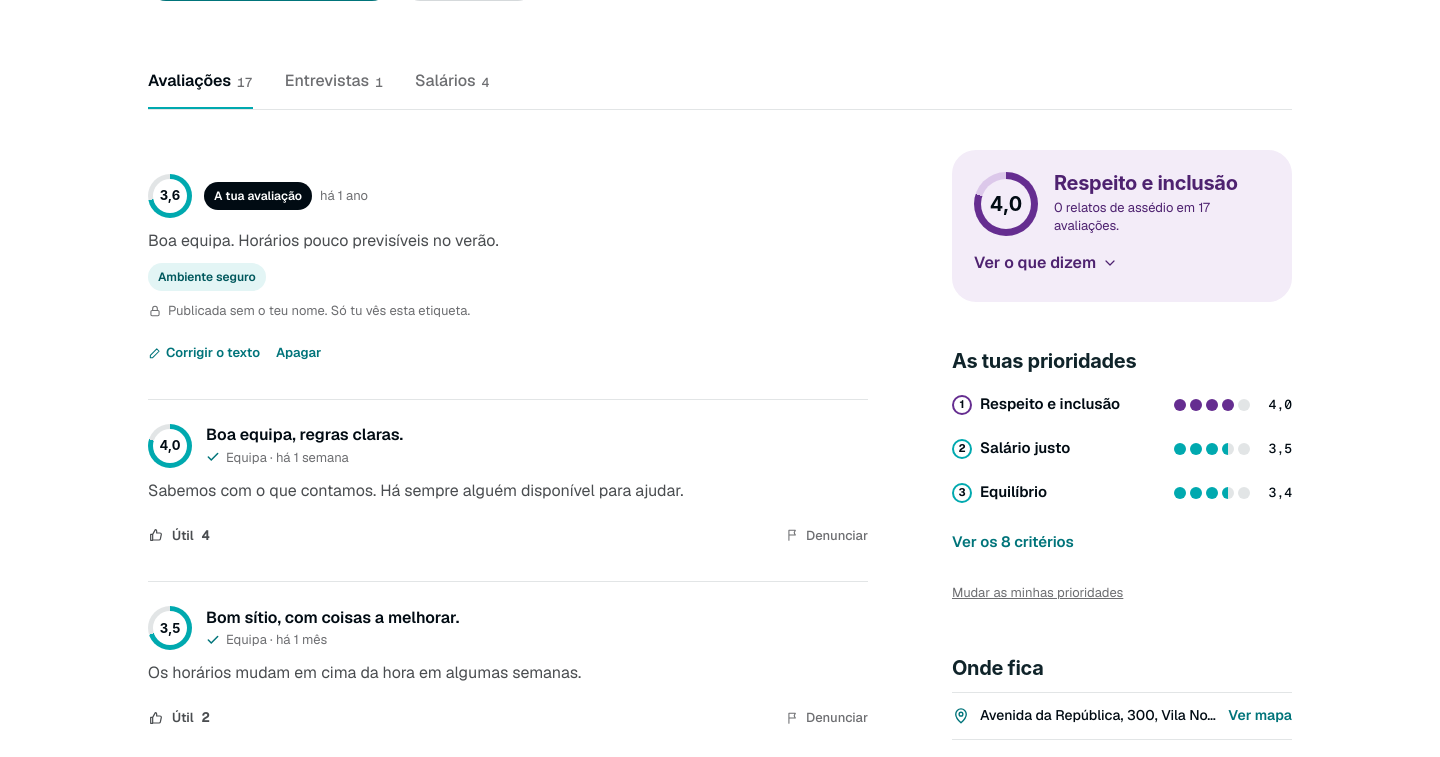
Test: A minha avaliação (desktop) › corrigir o texto: as notas ficam e aparece "editada"
(page scrolled)
Step 1. Click the button "Corrigir o texto" → click(204, 353), box [148,331,260,375]
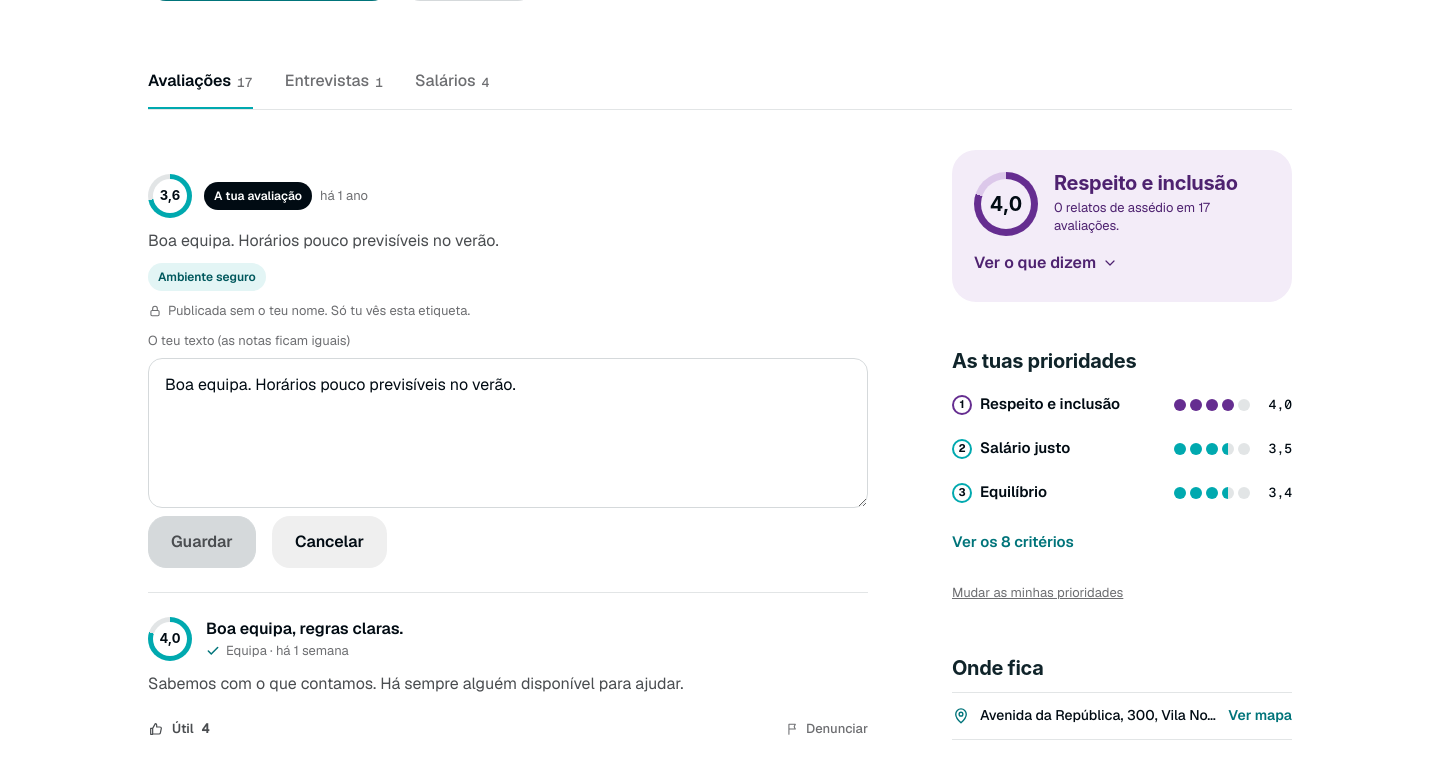
Expected: the text box labelled "O teu texto (as notas ficam iguais)" holds "Boa equipa. Horários pouco previsíveis no verão."
Expected: the button "Guardar" below "O teu texto (as notas ficam iguais)" is disabled, [148,516,256,568]
Step 2. Replace the text in the text box labelled "O teu texto (as notas ficam iguais)" with "Boa equipa. Os horários melhoraram este ano." → (508, 433), box [148,358,868,508]
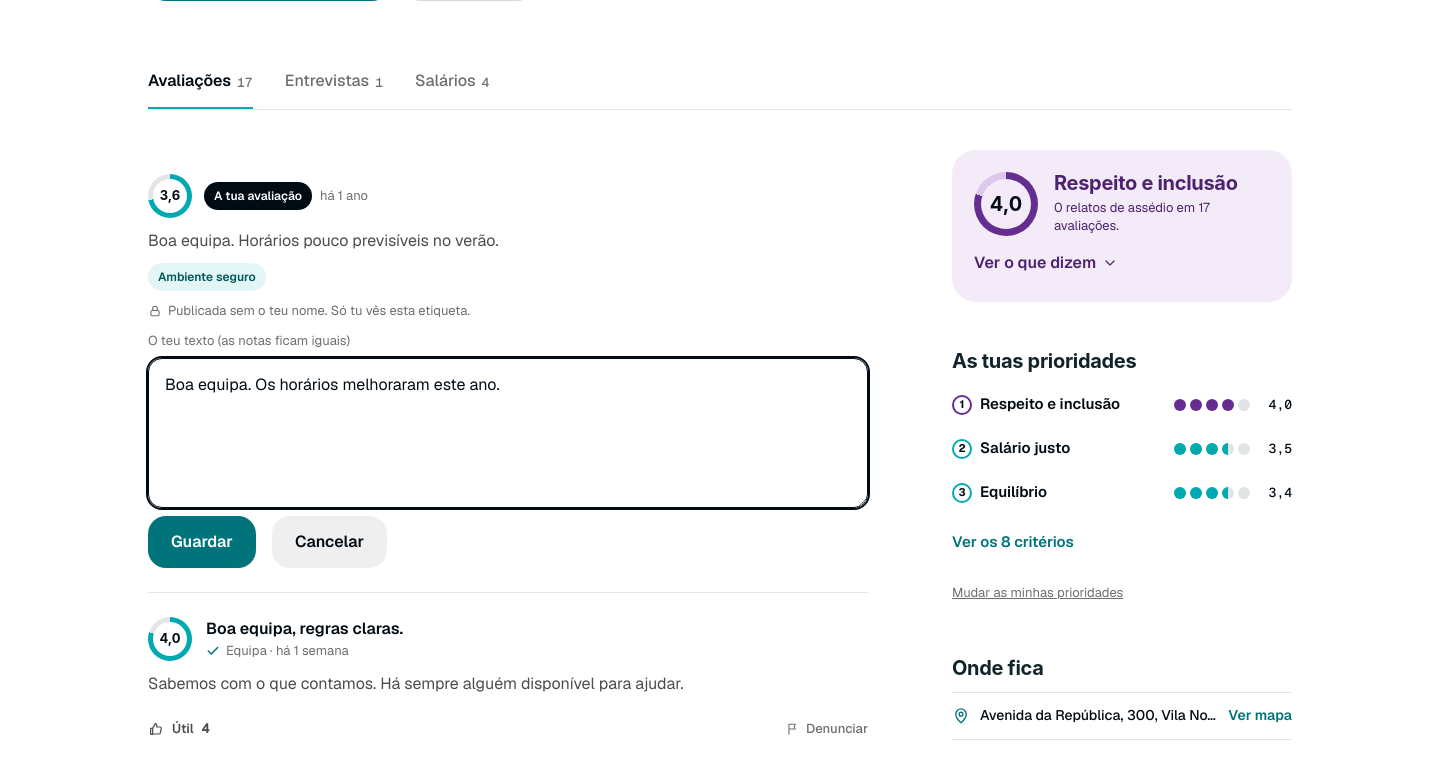
Step 3. Click the button "Guardar" below "O teu texto (as notas ficam iguais)" → click(202, 542), box [148,516,256,568]
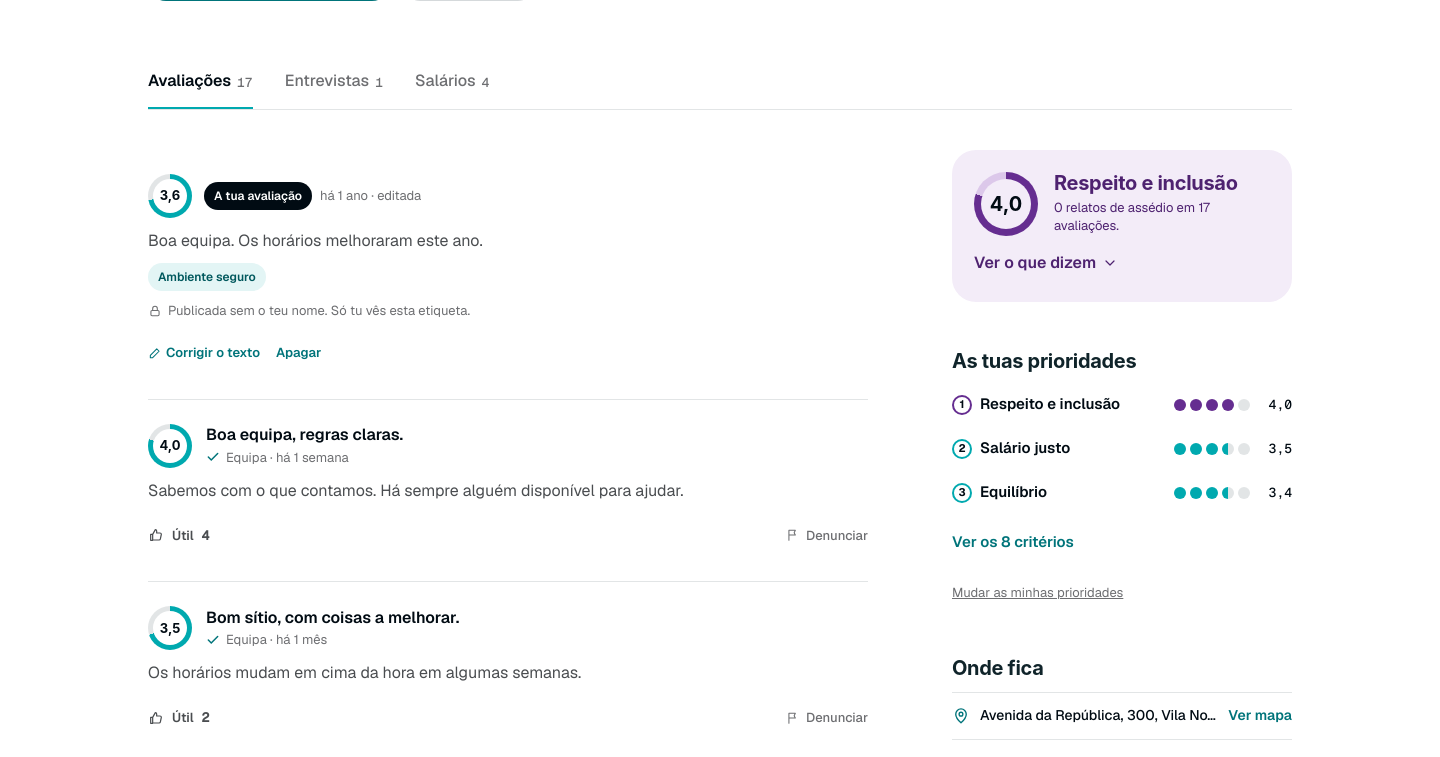
Expected: the text "Boa equipa. Os horários melhoraram este ano." is shown, [148,230,483,251]
Expected: the text "há 1 ano · editada" is shown, [320,186,421,205]
